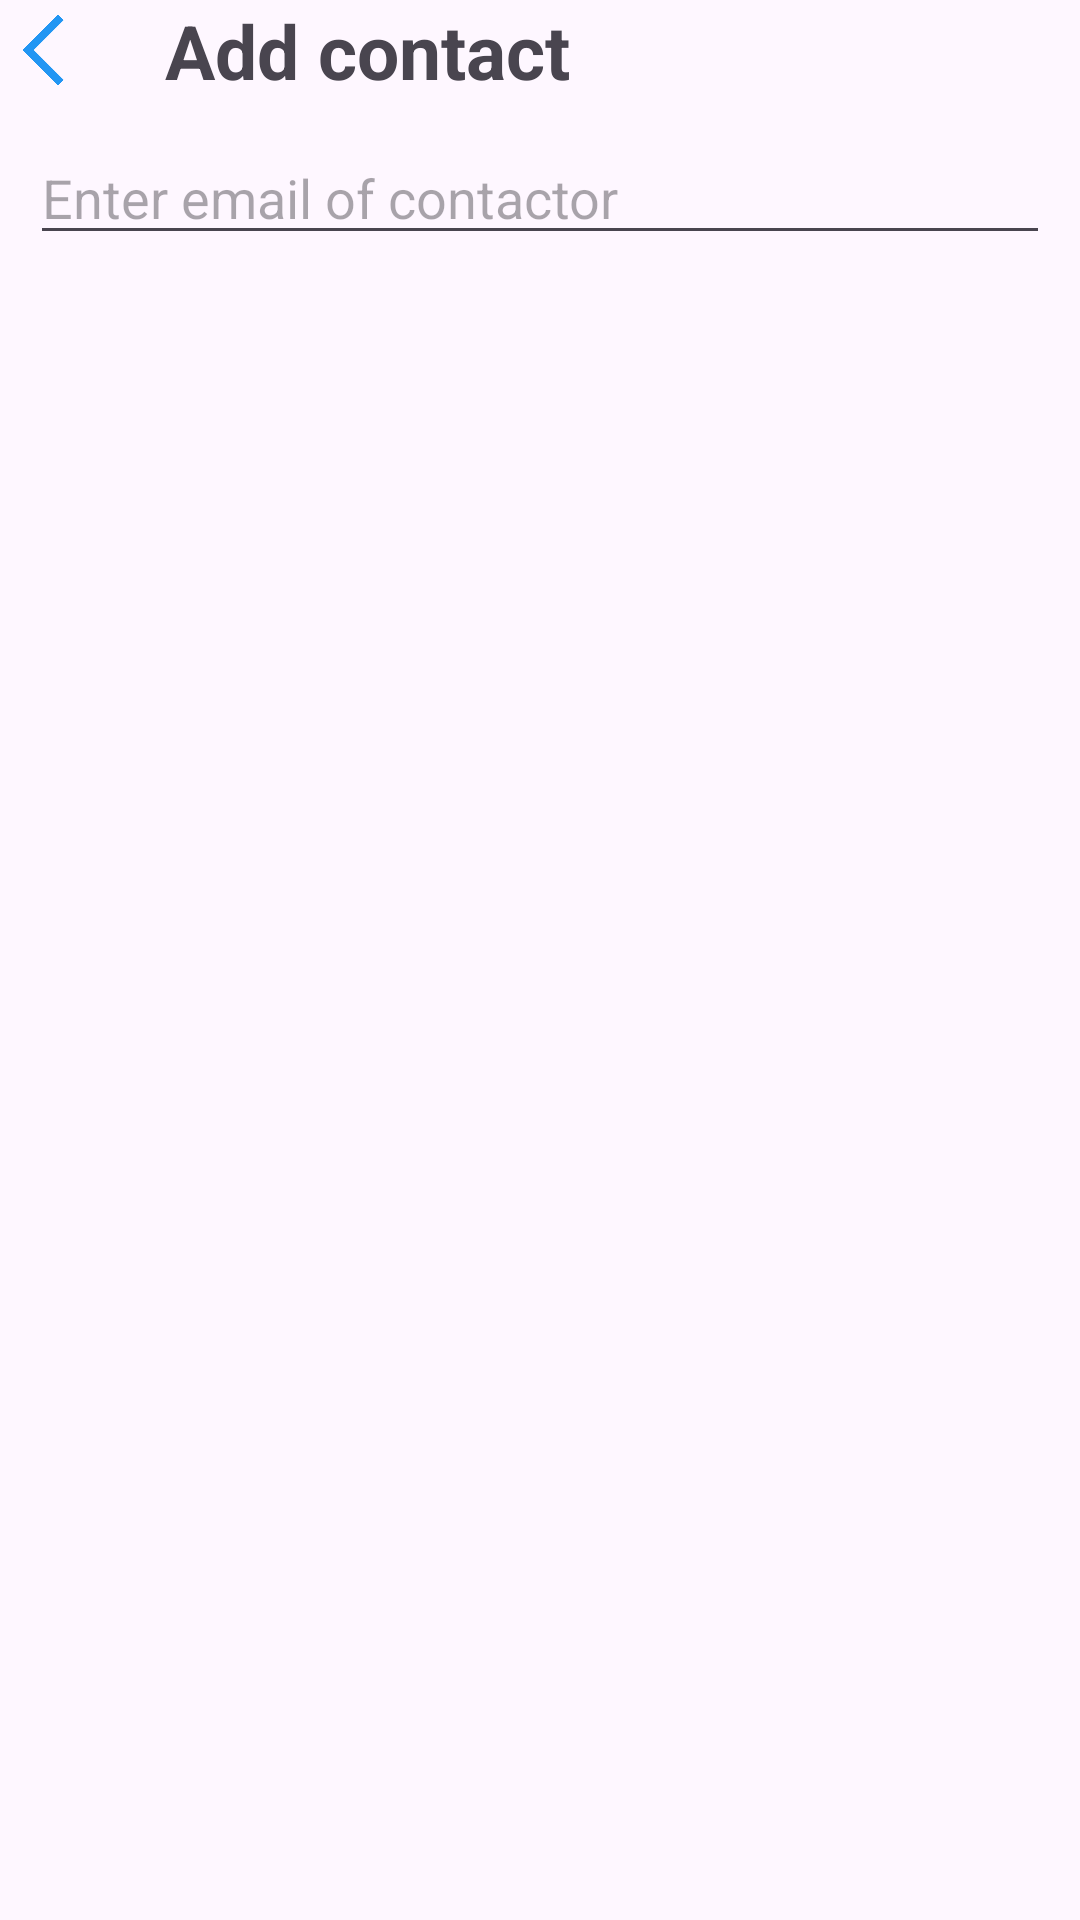

Named icons in this screenshot (1080 x 1920) and their bounding boxes, (x1, y1, x2, y2):
back: (23, 15, 64, 85)
